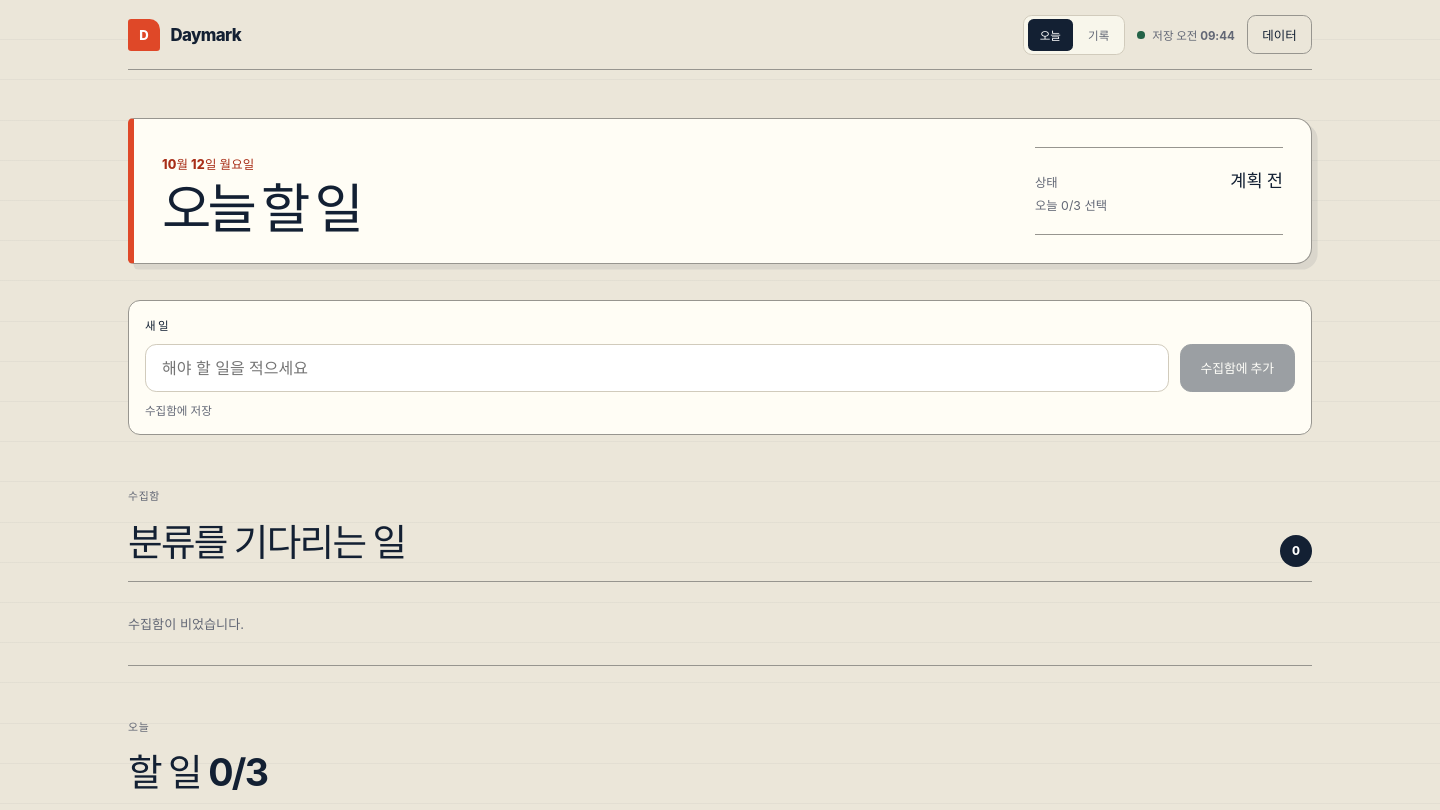
it: Daymark 첫 사용 흐름 › 오늘과 기록 화면을 제품 안에서 오간다
Click the button with aria-label "기록 화면" at (1099, 35), box [1076, 19, 1121, 51]
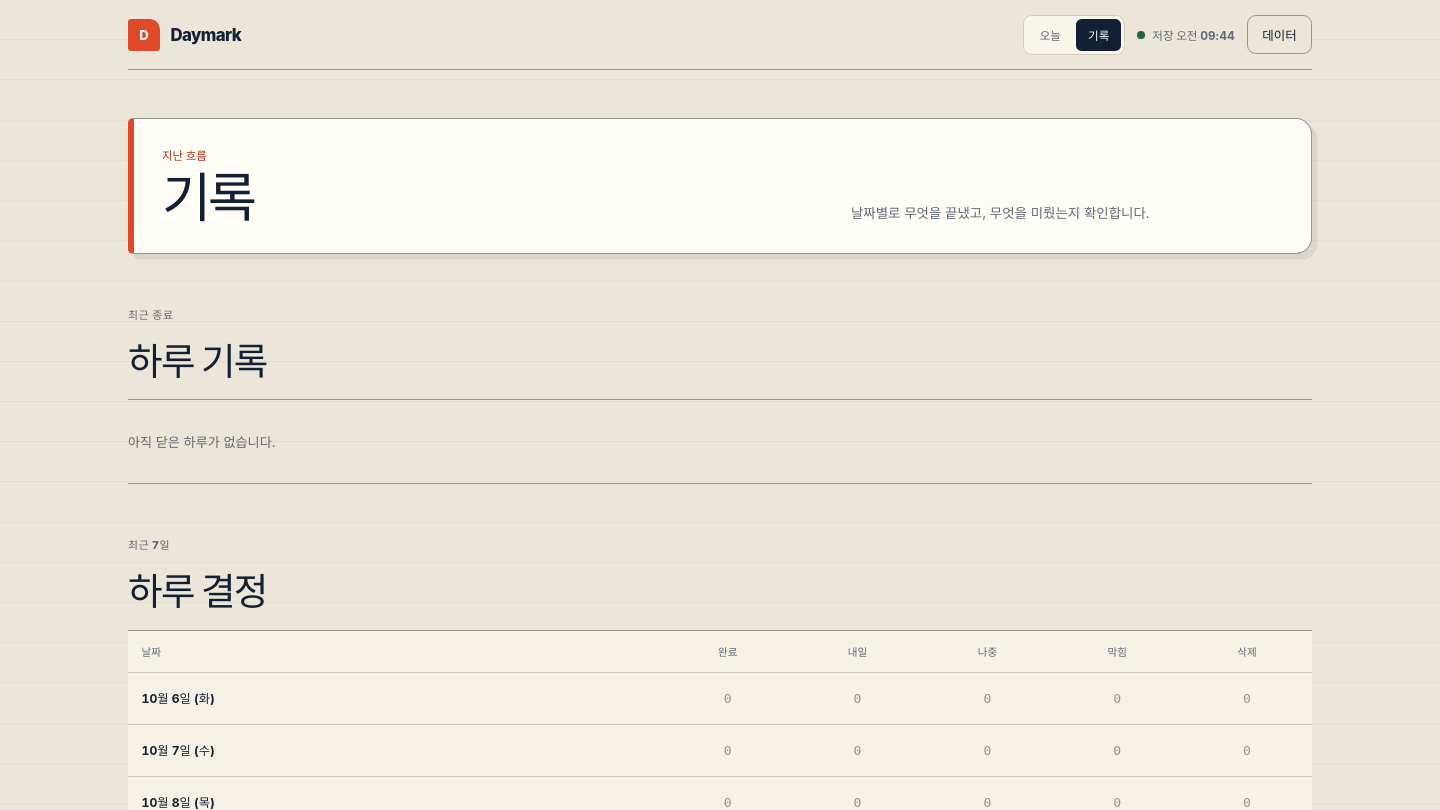
Expected: the heading "기록" is shown, [162, 165, 254, 230]
Click the button with aria-label "오늘 화면" at (1050, 35), box [1028, 19, 1073, 51]
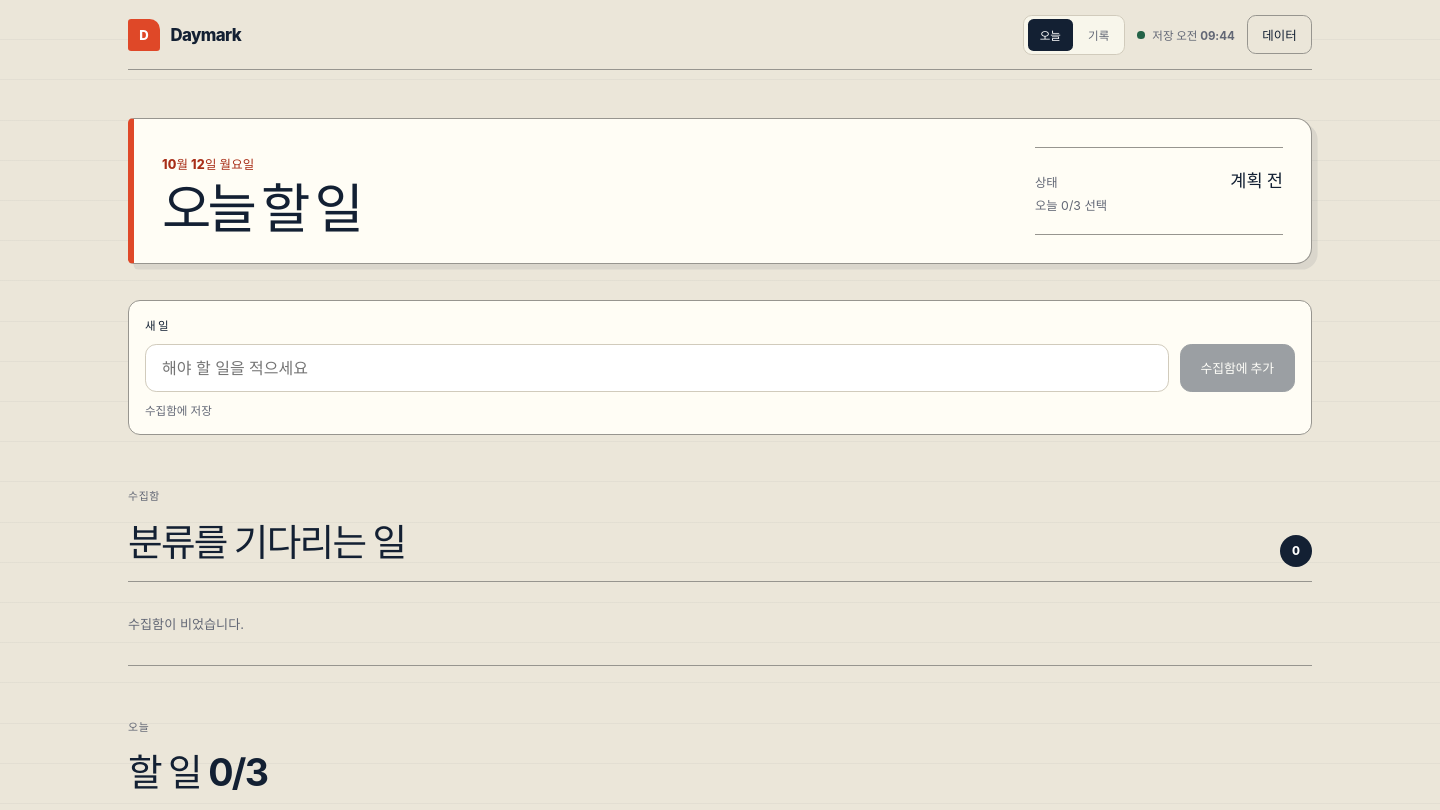
Expected: the heading "오늘 할 일" is shown, [162, 176, 360, 241]
